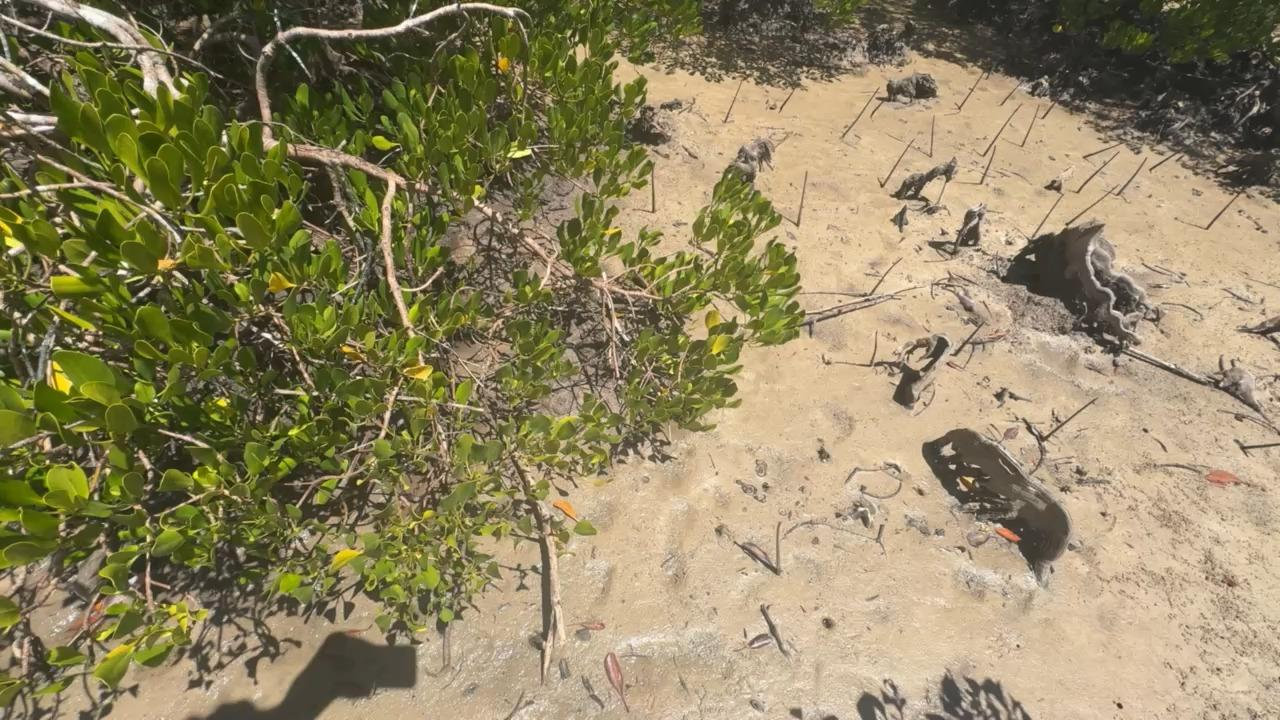Tree: (1043, 396, 1099, 441), (1065, 185, 1118, 226), (982, 103, 1021, 155), (1077, 151, 1120, 195), (842, 87, 879, 137), (1206, 187, 1243, 231), (881, 140, 913, 186), (1031, 194, 1063, 238), (869, 257, 904, 296), (1115, 156, 1147, 195), (958, 70, 985, 109), (955, 320, 985, 355), (1041, 87, 1067, 119), (1150, 146, 1183, 171), (1021, 104, 1040, 147), (1082, 141, 1126, 159), (724, 79, 742, 122), (979, 146, 996, 185), (797, 171, 808, 225), (1000, 81, 1022, 105), (776, 520, 782, 576), (935, 176, 947, 204), (870, 97, 886, 118), (780, 88, 794, 111), (1242, 442, 1280, 450), (870, 331, 878, 366), (930, 116, 935, 159), (652, 164, 656, 213), (985, 64, 993, 80)
